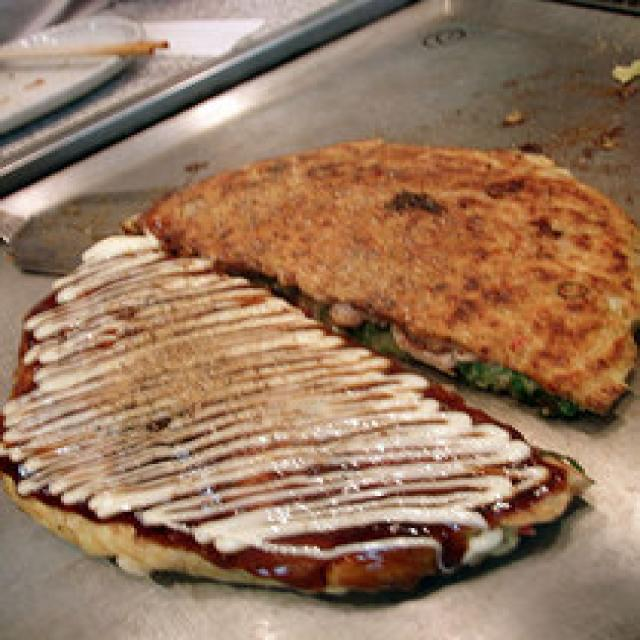蛋糕甜品: (0, 137, 640, 601)
